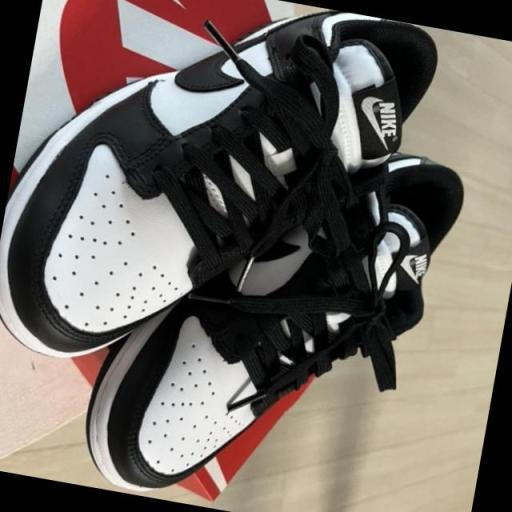Nike: (352, 95, 386, 140), (372, 101, 400, 138)
